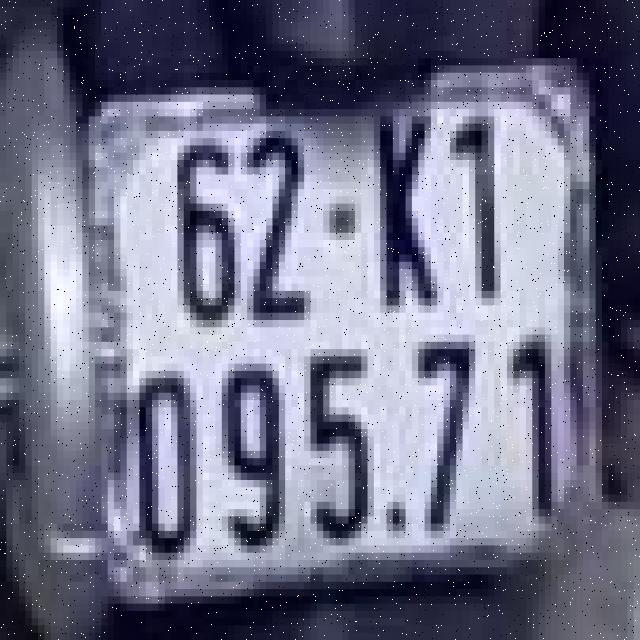0: (124, 352, 206, 564)
1: (453, 102, 517, 305), (510, 320, 567, 531)
2: (244, 124, 320, 327)
5: (298, 335, 374, 560)
6: (165, 127, 247, 338)
7: (406, 324, 482, 542)
9: (209, 349, 292, 567)
K: (364, 91, 453, 316)
